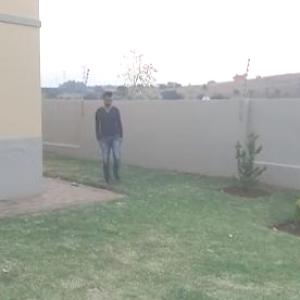follow: (91, 88, 125, 186)
